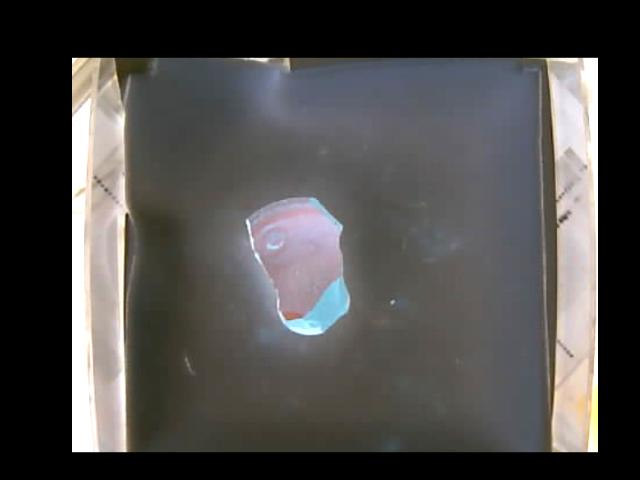China: (249, 196, 346, 333)
